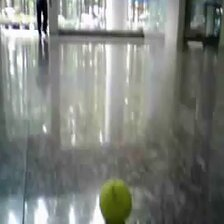tennis: (99, 179, 132, 220)
